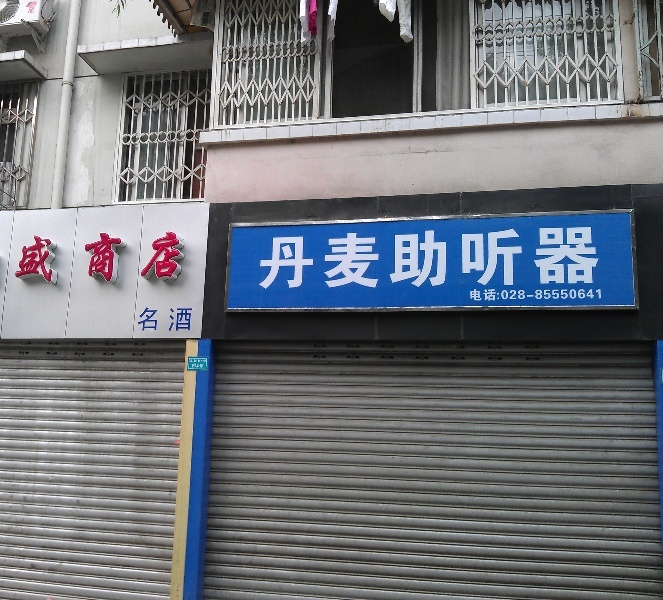text: (273, 223, 288, 288), (289, 223, 304, 288), (305, 223, 320, 288), (321, 223, 336, 288), (337, 223, 352, 288), (353, 223, 368, 288), (369, 223, 384, 288), (385, 223, 400, 288), (401, 223, 416, 288), (417, 223, 432, 288), (433, 223, 448, 288), (449, 223, 464, 288), (465, 223, 480, 288), (481, 223, 496, 288), (497, 223, 512, 288), (513, 223, 528, 288), (529, 223, 544, 288), (545, 223, 560, 288), (561, 223, 576, 288), (577, 223, 592, 288), (258, 223, 272, 288), (33, 228, 48, 285), (49, 228, 64, 285), (65, 228, 80, 285), (81, 228, 96, 285), (97, 228, 112, 285), (113, 228, 128, 285), (129, 228, 144, 285), (145, 228, 160, 285), (161, 228, 176, 285), (20, 228, 32, 285), (177, 228, 189, 285), (145, 306, 160, 331), (161, 306, 176, 331), (177, 306, 192, 331), (593, 223, 597, 288), (481, 288, 496, 302), (497, 288, 512, 302), (513, 288, 528, 302), (529, 288, 544, 302), (545, 288, 560, 302), (561, 288, 576, 302), (577, 288, 592, 302), (470, 288, 480, 302), (593, 288, 602, 302), (139, 306, 144, 331), (193, 363, 205, 369), (193, 360, 206, 363), (193, 306, 194, 331), (190, 360, 192, 363)
